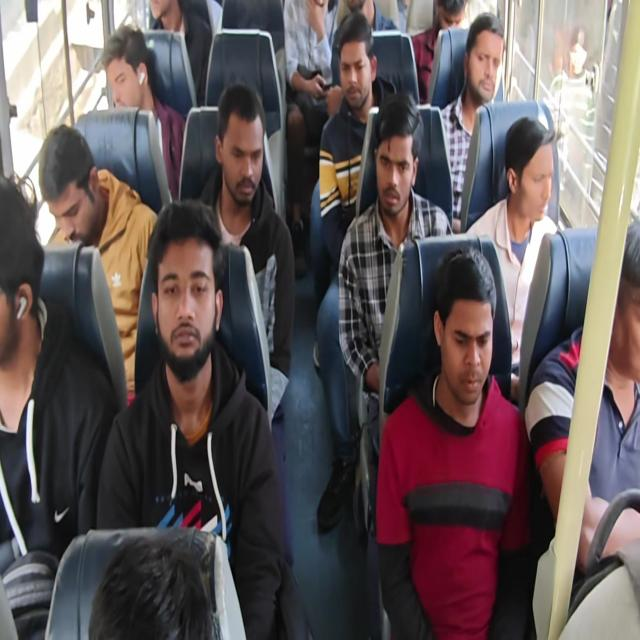person: (96, 525, 212, 640), (139, 227, 213, 363), (36, 128, 106, 252), (208, 93, 270, 226), (0, 180, 40, 380), (436, 271, 491, 411), (602, 227, 640, 403), (98, 32, 155, 130), (509, 124, 555, 233), (375, 128, 409, 223), (463, 18, 497, 103), (336, 38, 374, 114), (425, 0, 467, 50), (339, 0, 383, 35), (142, 0, 181, 35)
